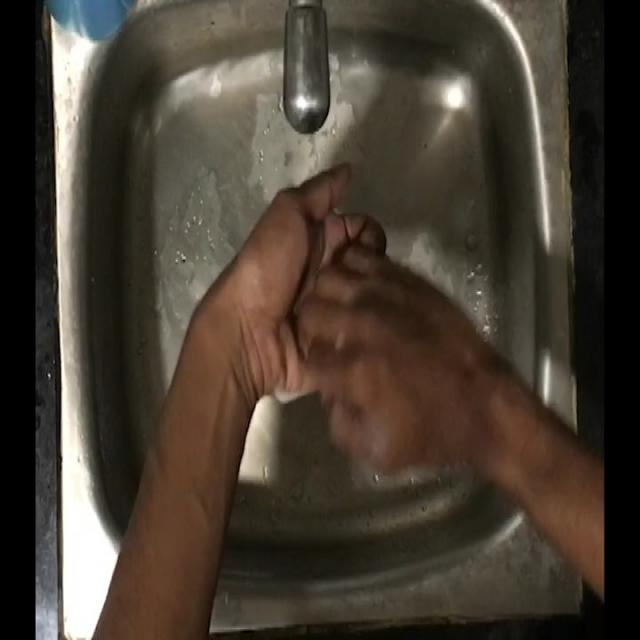step_4: (237, 160, 477, 418)
